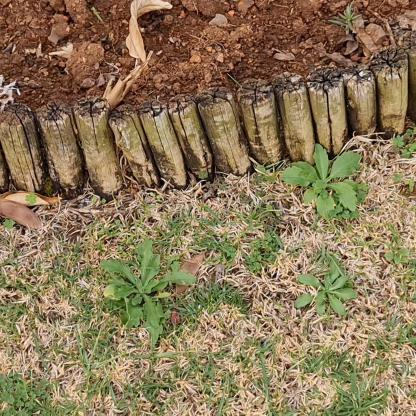Weeds: (98, 238, 196, 344), (281, 140, 362, 222), (293, 261, 357, 318), (385, 245, 410, 263)
